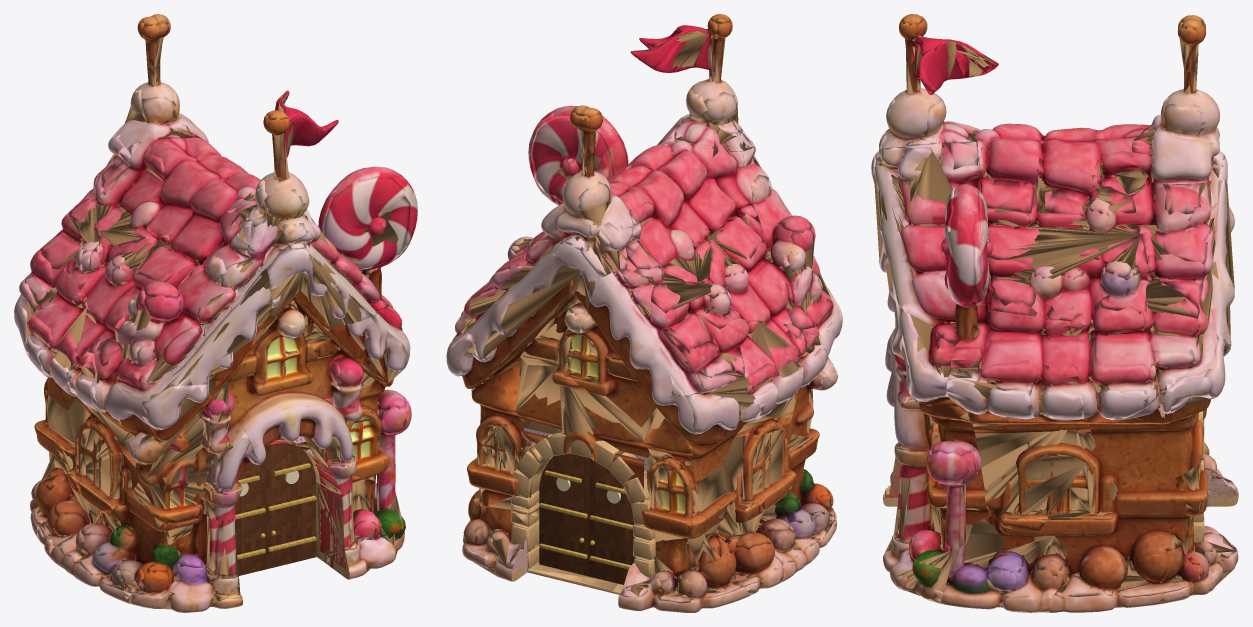
The model's file is GIN_BLD_CandyCaneCottage_Fractured.fbx.
The picture shows the model from 3 angles, left to right: view 1: azimuth 30°, elevation 25°; view 2: azimuth 150°, elevation 25°; view 3: azimuth 270°, elevation 25°; orthographic projection. The views are drawn at different scales.
Parts seen in each view (by area): view 1: GIN_BLD_CandyCaneCottage_Frag_19, GIN_BLD_CandyCaneCottage_Frag_14, GIN_BLD_CandyCaneCottage_Frag_08, GIN_BLD_CandyCaneCottage_Frag_31, GIN_BLD_CandyCaneCottage_Frag_36, GIN_BLD_CandyCaneCottage_Frag_04, GIN_BLD_CandyCaneCottage_Frag_37, GIN_BLD_CandyCaneCottage_Frag_15, GIN_BLD_CandyCaneCottage_Frag_16, GIN_BLD_CandyCaneCottage_Frag_03, GIN_BLD_CandyCaneCottage_Frag_25, GIN_BLD_CandyCaneCottage_Frag_Door_1 (+14 smaller); view 2: GIN_BLD_CandyCaneCottage_Frag_08, GIN_BLD_CandyCaneCottage_Frag_32, GIN_BLD_CandyCaneCottage_Frag_04, GIN_BLD_CandyCaneCottage_Frag_38, GIN_BLD_CandyCaneCottage_Frag_10, GIN_BLD_CandyCaneCottage_Frag_02, GIN_BLD_CandyCaneCottage_Frag_40, GIN_BLD_CandyCaneCottage_Frag_22, GIN_BLD_CandyCaneCottage_Frag_35, GIN_BLD_CandyCaneCottage_Frag_16, GIN_BLD_CandyCaneCottage_Frag_19, GIN_BLD_CandyCaneCottage_Frag_Door_2 (+17 smaller); view 3: GIN_BLD_CandyCaneCottage_Frag_12, GIN_BLD_CandyCaneCottage_Frag_14, GIN_BLD_CandyCaneCottage_Frag_41, GIN_BLD_CandyCaneCottage_Frag_07, GIN_BLD_CandyCaneCottage_Frag_30, GIN_BLD_CandyCaneCottage_Frag_32, GIN_BLD_CandyCaneCottage_Frag_29, GIN_BLD_CandyCaneCottage_Frag_26, GIN_BLD_CandyCaneCottage_Frag_18, GIN_BLD_CandyCaneCottage_Frag_16, GIN_BLD_CandyCaneCottage_Frag_35, GIN_BLD_CandyCaneCottage_Frag_08 (+11 smaller).
Boxes of the visible parts, x1,y1,x2,y2 form: GIN_BLD_CandyCaneCottage_Frag_19: (95,223,272,385); GIN_BLD_CandyCaneCottage_Frag_14: (261,166,417,334); GIN_BLD_CandyCaneCottage_Frag_08: (94,109,278,247); GIN_BLD_CandyCaneCottage_Frag_31: (226,315,357,463); GIN_BLD_CandyCaneCottage_Frag_36: (135,399,260,524); GIN_BLD_CandyCaneCottage_Frag_04: (82,184,289,342); GIN_BLD_CandyCaneCottage_Frag_37: (129,514,242,612); GIN_BLD_CandyCaneCottage_Frag_15: (316,475,405,579); GIN_BLD_CandyCaneCottage_Frag_16: (234,91,338,254); GIN_BLD_CandyCaneCottage_Frag_03: (95,376,230,464); GIN_BLD_CandyCaneCottage_Frag_25: (303,305,410,417); GIN_BLD_CandyCaneCottage_Frag_Door_1: (260,439,316,569); GIN_BLD_CandyCaneCottage_Frag_08: (607,17,731,284); GIN_BLD_CandyCaneCottage_Frag_32: (469,231,598,372); GIN_BLD_CandyCaneCottage_Frag_04: (703,82,791,324); GIN_BLD_CandyCaneCottage_Frag_38: (569,269,660,427); GIN_BLD_CandyCaneCottage_Frag_10: (613,455,728,589); GIN_BLD_CandyCaneCottage_Frag_02: (650,282,746,397); GIN_BLD_CandyCaneCottage_Frag_40: (515,365,649,487); GIN_BLD_CandyCaneCottage_Frag_22: (641,377,759,484); GIN_BLD_CandyCaneCottage_Frag_35: (541,152,632,277); GIN_BLD_CandyCaneCottage_Frag_16: (630,14,754,151); GIN_BLD_CandyCaneCottage_Frag_19: (739,131,833,336); GIN_BLD_CandyCaneCottage_Frag_Door_2: (539,453,594,576); GIN_BLD_CandyCaneCottage_Frag_12: (977,62,1147,321); GIN_BLD_CandyCaneCottage_Frag_14: (871,141,988,345); GIN_BLD_CandyCaneCottage_Frag_41: (1070,267,1216,424); GIN_BLD_CandyCaneCottage_Frag_07: (946,311,1083,424); GIN_BLD_CandyCaneCottage_Frag_30: (1039,446,1186,569); GIN_BLD_CandyCaneCottage_Frag_32: (1133,177,1234,347); GIN_BLD_CandyCaneCottage_Frag_29: (968,413,1095,531); GIN_BLD_CandyCaneCottage_Frag_26: (940,516,1070,612); GIN_BLD_CandyCaneCottage_Frag_18: (1089,337,1230,478); GIN_BLD_CandyCaneCottage_Frag_16: (879,14,996,148); GIN_BLD_CandyCaneCottage_Frag_35: (1131,65,1227,184); GIN_BLD_CandyCaneCottage_Frag_08: (916,14,1151,196).
Bounding box in the file's own units: 1931 × 2800 × 1805.
